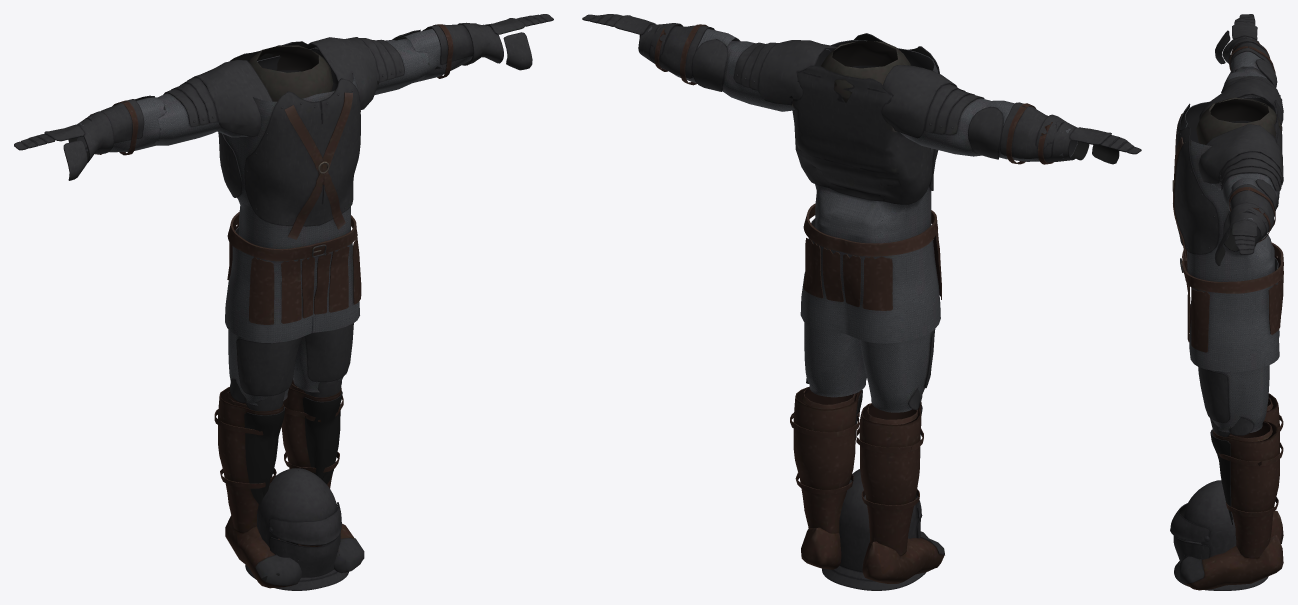
The model's file is ashforged.glb.
3 renders of one model, left to right at view 1: azimuth 30°, elevation 25°; view 2: azimuth 150°, elevation 25°; view 3: azimuth 270°, elevation 25°, orthographic. The views are drawn at different scales.
Visible parts, largest first — view 1: chest, feet, gloves, legs, helm; view 2: chest, feet, legs, gloves, helm; view 3: chest, feet, gloves, legs, helm.
Part boxes in pixels (bbox=[...]): chest: bbox=[77, 24, 487, 343]; feet: bbox=[214, 380, 364, 588]; gloves: bbox=[14, 14, 553, 180]; legs: bbox=[225, 323, 353, 411]; helm: bbox=[245, 468, 348, 590]; chest: bbox=[643, 24, 1077, 343]; feet: bbox=[790, 386, 944, 583]; legs: bbox=[802, 322, 935, 424]; gloves: bbox=[582, 14, 1141, 164]; helm: bbox=[822, 469, 925, 590]; chest: bbox=[1172, 37, 1283, 372]; feet: bbox=[1179, 393, 1283, 590]; gloves: bbox=[1215, 14, 1275, 265]; legs: bbox=[1198, 365, 1273, 441]; helm: bbox=[1170, 480, 1268, 590].
Size of the model in its own units: 1.78 by 1.61 by 0.3567.
Materials: 5 (5 with a texture image).
